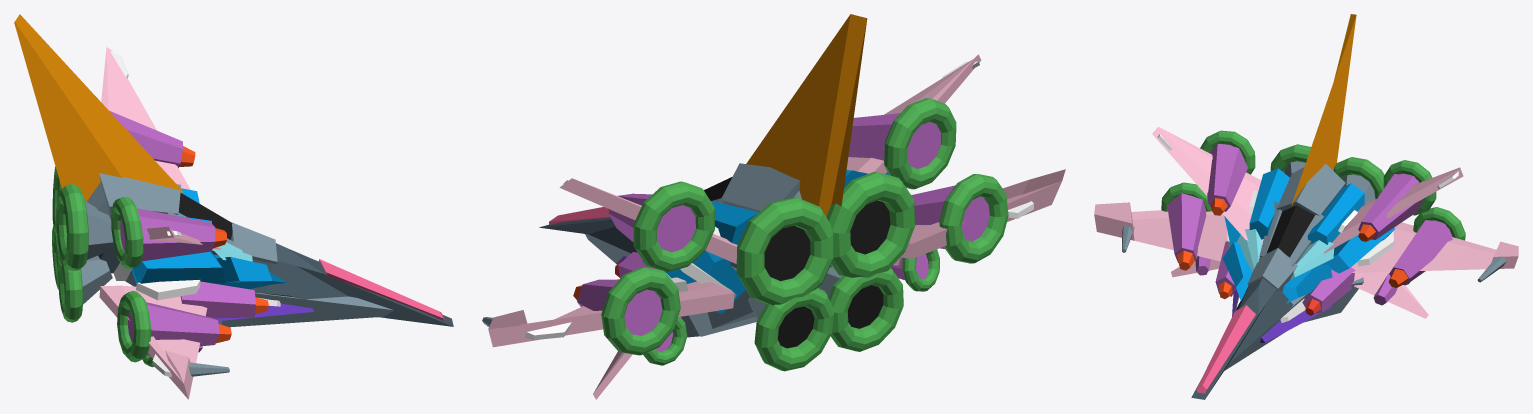
Rendered from spaceship 5.compressed.glb.
3 views of the same model, side by side, from view 1: azimuth 30°, elevation 25°; view 2: azimuth 150°, elevation 25°; view 3: azimuth 270°, elevation 25° (orthographic). The views are drawn at different scales.
Parts seen in each view (by area): view 1: group168394825, group1963424978, group1255592917, group1184730635, group1293524730, group793712102, group35835182, group725447756, group493417941, group545580355, group1532883360, group1806260245 (+12 smaller); view 2: group168394825, group530922836, group35835182, group424196609, group1150853737, group2142765860, group1806260245, group377144643, group1994713025, group1212457892, group793712102, group1184730635 (+19 smaller); view 3: group1963424978, group1184730635, group377144643, group168394825, group756527425, group1180287971, group545580355, group493417941, group1386473134, group997109162, group793712102, group725447756 (+23 smaller).
Boxes of the visible parts, x1,y1,x2,y2 form: group168394825: (14,14,183,201); group1963424978: (98,193,453,326); group1255592917: (131,251,286,289); group1184730635: (99,285,207,399); group1293524730: (218,292,393,327); group793712102: (120,208,215,261); group35835182: (56,184,88,270); group725447756: (101,47,190,189); group493417941: (128,302,219,346); group545580355: (99,173,181,220); group1532883360: (180,281,255,318); group1806260245: (117,291,151,362); group168394825: (746,14,867,216); group530922836: (736,197,833,305); group35835182: (826,172,915,277); group424196609: (633,181,714,272); group1150853737: (601,267,680,355); group2142765860: (884,98,956,189); group1806260245: (939,174,1008,263); group377144643: (488,281,734,347); group1994713025: (754,288,834,371); group1212457892: (828,268,903,351); group793712102: (848,113,940,173); group1184730635: (900,169,1065,258); group1963424978: (1191,205,1314,399); group1184730635: (1094,202,1227,261); group377144643: (1351,222,1518,272); group168394825: (1291,14,1356,205); group756527425: (1152,127,1263,241); group1180287971: (1282,228,1394,303); group545580355: (1276,163,1345,215); group493417941: (1167,193,1206,262); group1386473134: (1358,173,1423,239); group997109162: (1389,220,1452,285); group793712102: (1207,144,1247,211); group725447756: (1324,167,1463,253).
Bounding box in the file's own units: 0.2775 × 0.2433 × 0.3684.
